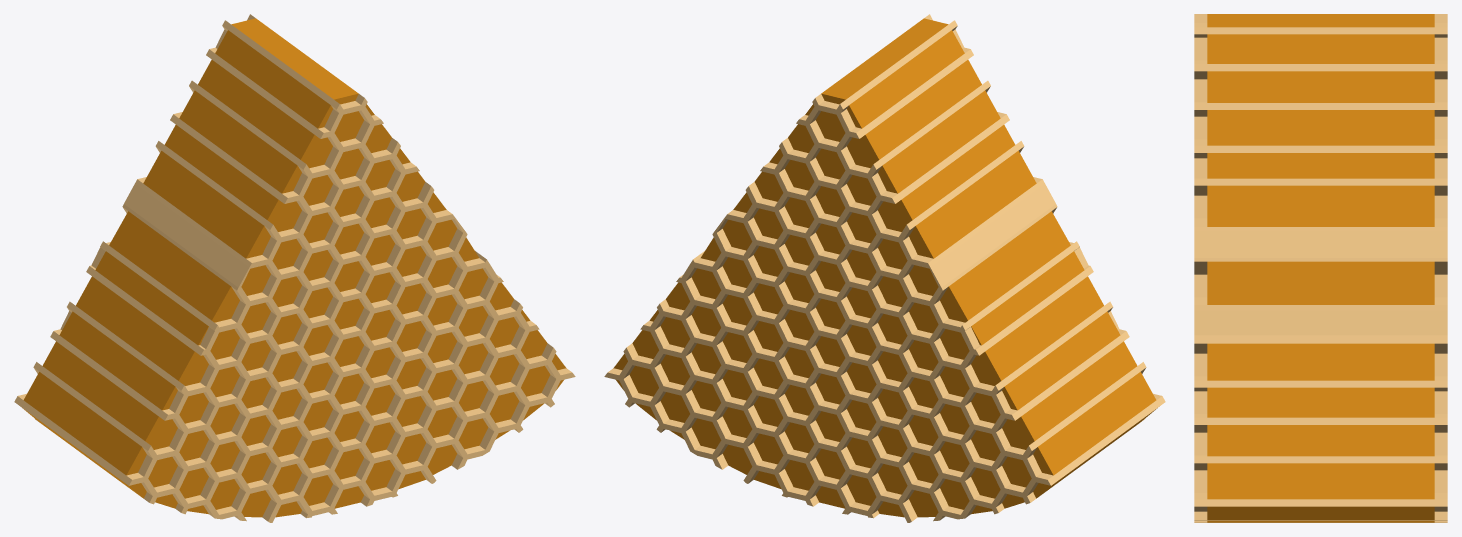
File: fengmikuai.FBX
3 views of the same model, side by side, from view 1: azimuth 30°, elevation 25°; view 2: azimuth 150°, elevation 25°; view 3: azimuth 270°, elevation 25° (orthographic). The views are drawn at different scales.
Parts seen in each view (by area): view 1: 蜂蜜块; view 2: 蜂蜜块; view 3: 蜂蜜块.
Part boxes in pixels (x1,y1,x2,y2): 蜂蜜块: [14, 14, 575, 522]; 蜂蜜块: [604, 14, 1165, 522]; 蜂蜜块: [1194, 14, 1447, 522].
Size of the model in its own units: 86.95 by 76.11 by 38.64.
